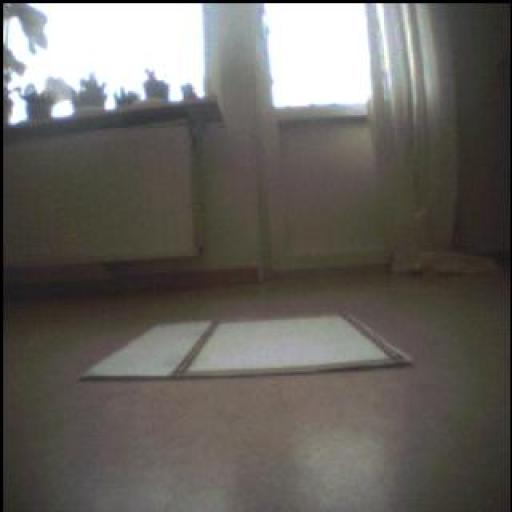Pad: (111, 318, 433, 367)
